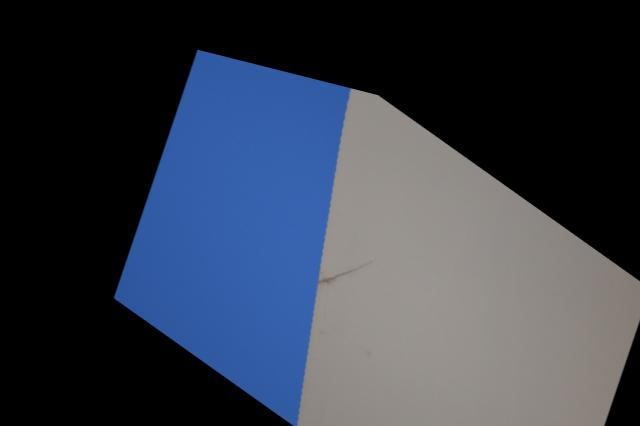damage: (292, 211, 377, 303)
